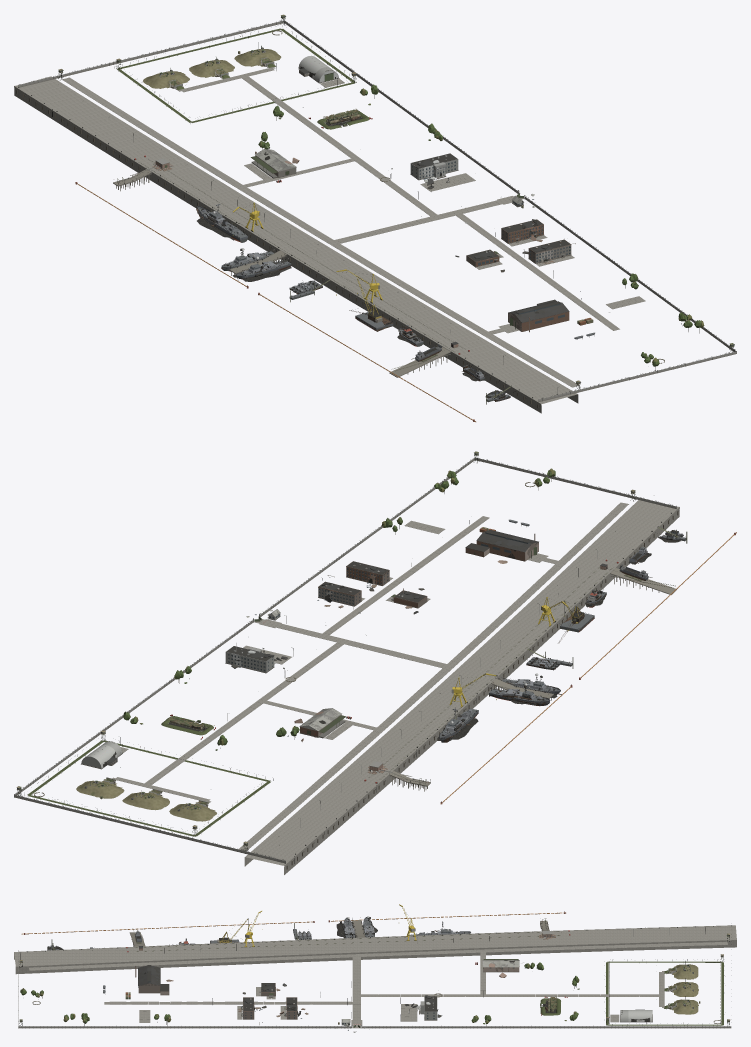
The model's file is site_port.glb.
The picture shows the model from 3 angles, top to bottom: view 1: azimuth 30°, elevation 25°; view 2: azimuth 150°, elevation 25°; view 3: azimuth 270°, elevation 25°; orthographic projection. The views are drawn at different scales.
Parts seen in each view (by area): view 1: deco|tile_conc, deco|F_A, b_shop|F_A, deco_trees|F_A, b_hq|F_A, b_shop_ruin|F_B, b_store|F_A, b_ttb|F_A; view 2: deco|tile_conc, deco|F_A, b_shop|F_A, deco_trees|F_A, b_shop_ruin|F_B, b_store|F_A, b_ttb|F_A; view 3: deco|tile_conc, deco|F_A, b_shop|F_A, deco_trees|F_A, b_msl3|F_A, b_msl1|F_A, b_ttb|F_A, b_hq|F_A, b_shop_ruin|F_B, b_msl2|F_A, b_store_ruin|F_B, b_store|F_A (+5 smaller).
Boxes of the visible parts, left/top/right/bottom form: deco|tile_conc: left=14, top=64, right=645, bottom=413; deco|F_A: left=16, top=14, right=736, bottom=422; b_shop|F_A: left=508, top=299, right=569, bottom=331; deco_trees|F_A: left=258, top=84, right=704, bottom=370; b_hq|F_A: left=410, top=153, right=458, bottom=180; b_shop_ruin|F_B: left=508, top=301, right=569, bottom=332; b_store|F_A: left=251, top=149, right=296, bottom=178; b_ttb|F_A: left=298, top=55, right=339, bottom=83; deco|tile_conc: left=110, top=500, right=679, bottom=874; deco|F_A: left=14, top=451, right=736, bottom=869; b_shop|F_A: left=465, top=530, right=538, bottom=561; deco_trees|F_A: left=123, top=468, right=555, bottom=750; b_shop_ruin|F_B: left=465, top=530, right=538, bottom=563; b_store|F_A: left=299, top=708, right=345, bottom=737; b_ttb|F_A: left=81, top=741, right=122, bottom=769; deco|tile_conc: left=14, top=925, right=736, bottom=1028; deco|F_A: left=18, top=904, right=731, bottom=1028; b_shop|F_A: left=135, top=965, right=169, bottom=995; deco_trees|F_A: left=20, top=962, right=579, bottom=1025; b_msl3|F_A: left=665, top=996, right=698, bottom=1014; b_msl1|F_A: left=666, top=961, right=698, bottom=979; b_ttb|F_A: left=620, top=1009, right=652, bottom=1022; b_hq|F_A: left=417, top=996, right=437, bottom=1020; b_shop_ruin|F_B: left=138, top=965, right=173, bottom=994; b_msl2|F_A: left=666, top=978, right=698, bottom=996; b_store_ruin|F_B: left=482, top=959, right=523, bottom=977; b_store|F_A: left=482, top=959, right=516, bottom=972.
Bounding box in the file's own units: 329 × 40.89 × 801.
Materials: 89 (54 with a texture image).
